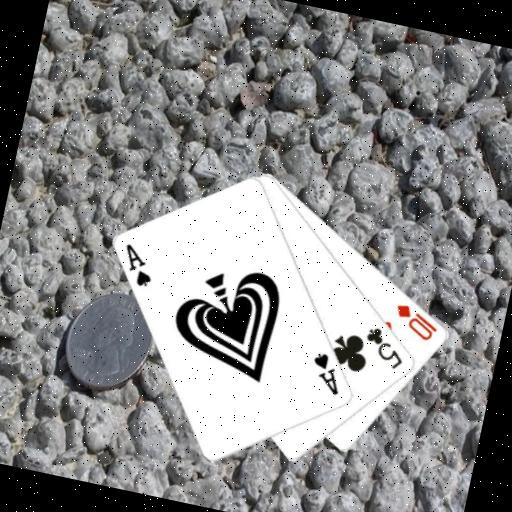10D: (388, 299, 443, 344)
5C: (357, 321, 411, 372)
AS: (114, 239, 160, 291), (304, 347, 348, 397)
